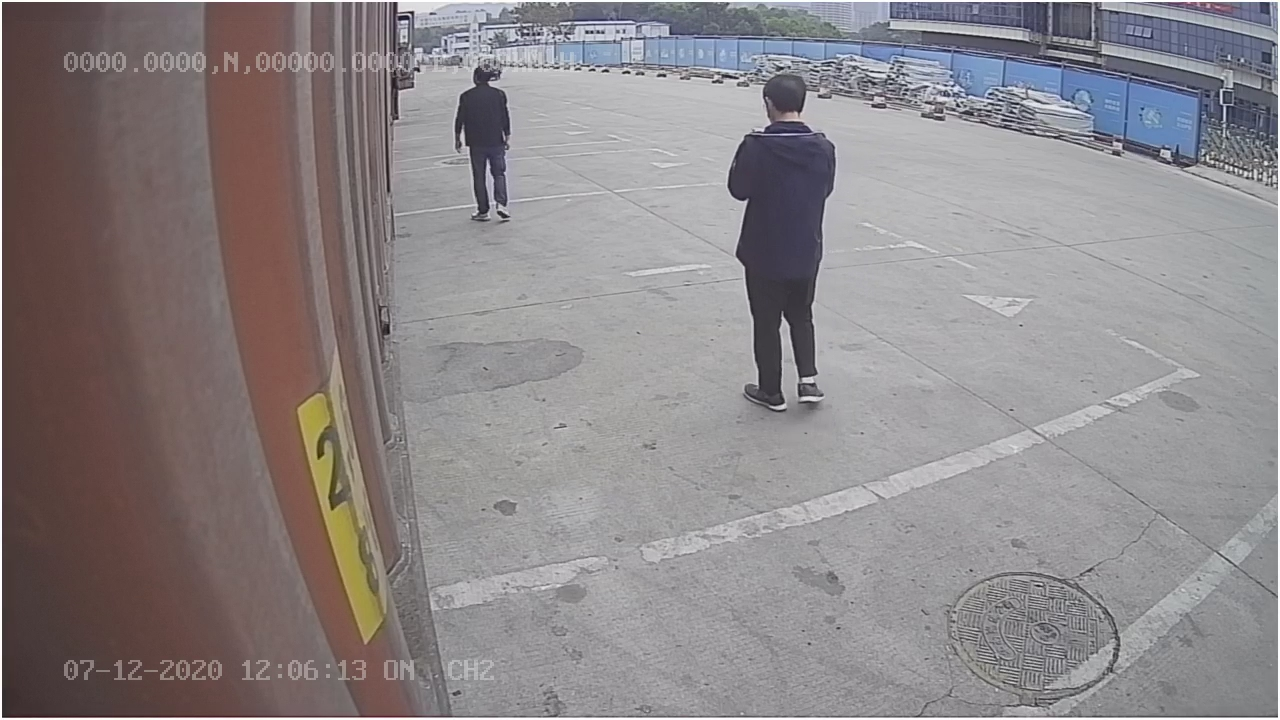person: (725, 68, 849, 410)
